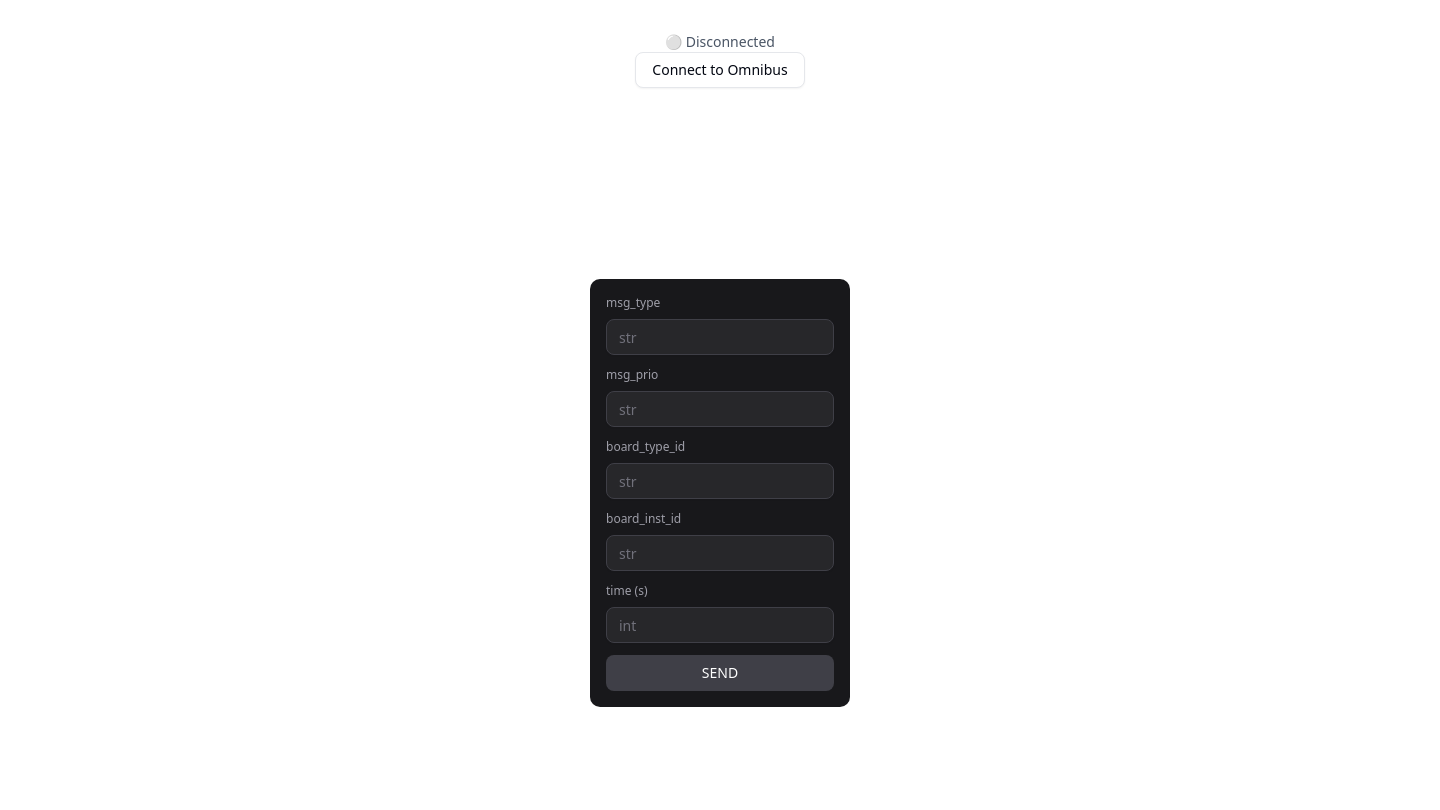
Test: Connect To Omnibus › opens the connect dialog when Connect to Omnibus is clicked
Click the button "Connect to Omnibus".
click(720, 70)  # box [635,52,805,88]
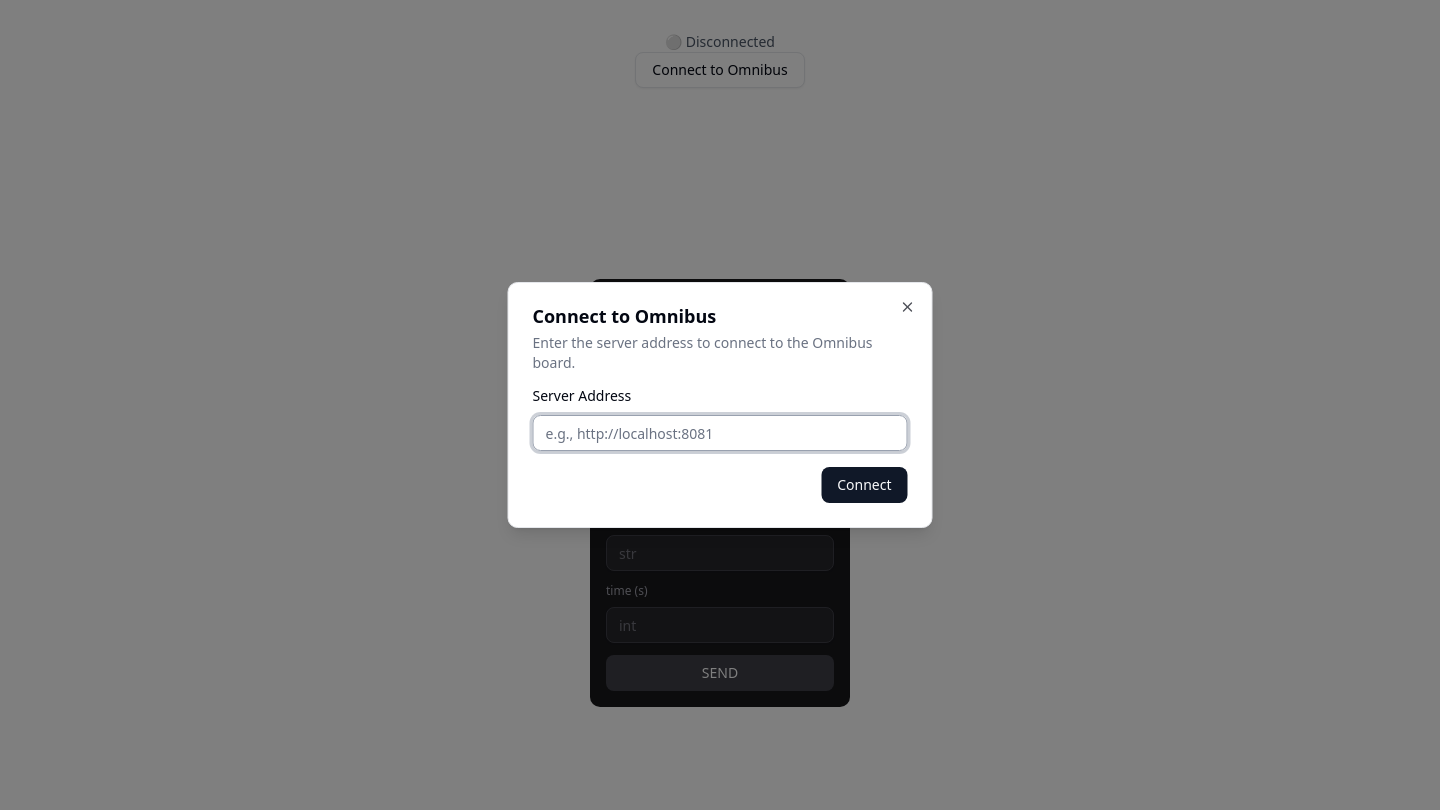
Expected: the dialog is shown, [508,282,932,528]
Expected: the field labelled "Server Address" is shown, [532,415,908,451]
